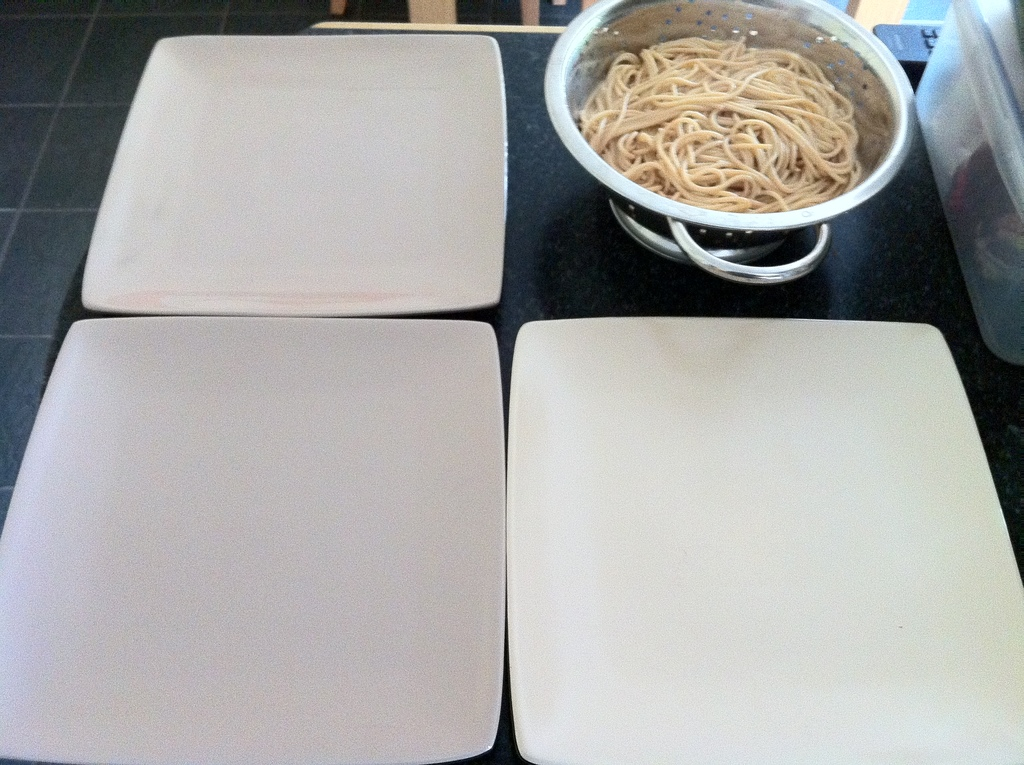plate: (504, 317, 1023, 764), (83, 34, 508, 316)
